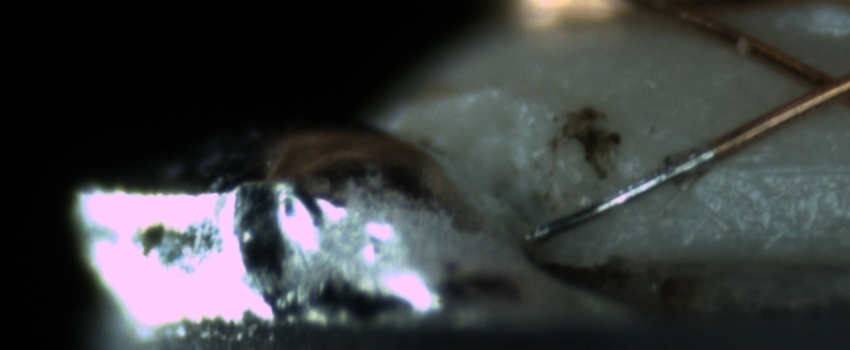CL: (781, 54, 849, 116)
DL: (709, 137, 849, 201)
TS: (528, 148, 715, 242)
